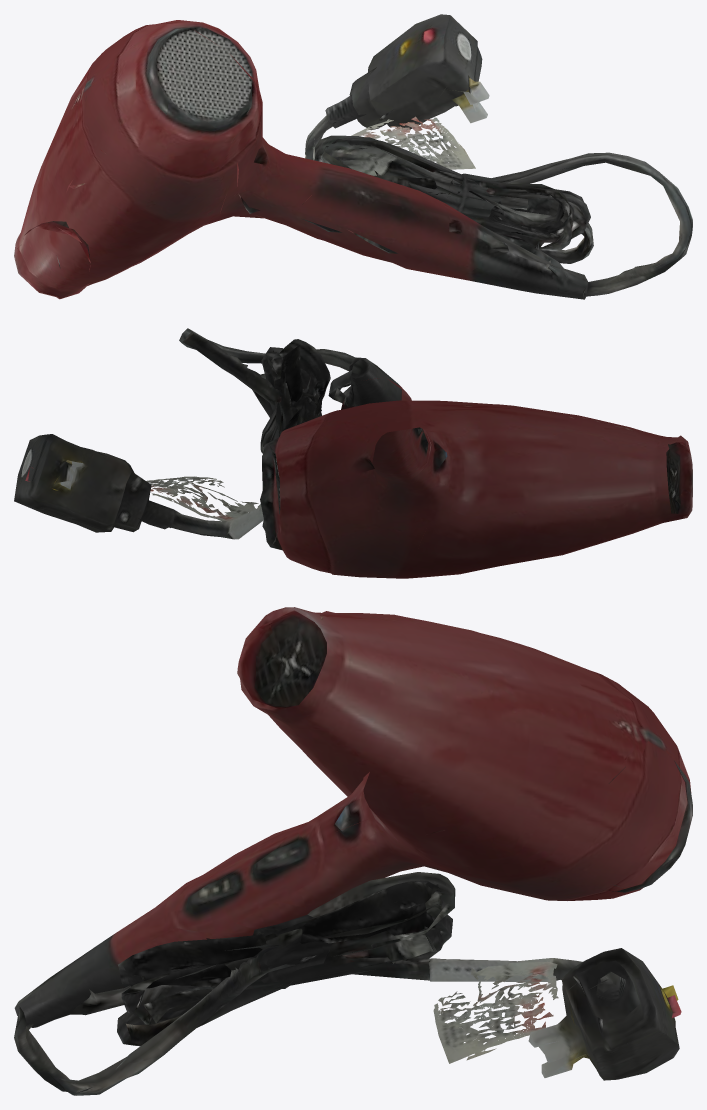
File: dryer.glb
The picture shows the model from 3 angles, top to bottom: view 1: azimuth 30°, elevation 25°; view 2: azimuth 150°, elevation 25°; view 3: azimuth 270°, elevation 25°; orthographic projection. The views are drawn at different scales.
Visible parts, largest first — view 1: scan; view 2: scan; view 3: scan.
Boxes of the visible parts, left/top/right/bottom form: scan: left=14, top=14, right=692, bottom=299; scan: left=14, top=328, right=692, bottom=578; scan: left=14, top=607, right=692, bottom=1095.
Size of the model in its own units: 0.3296 by 0.0885 by 0.2512.
1 material, 1 textured.
